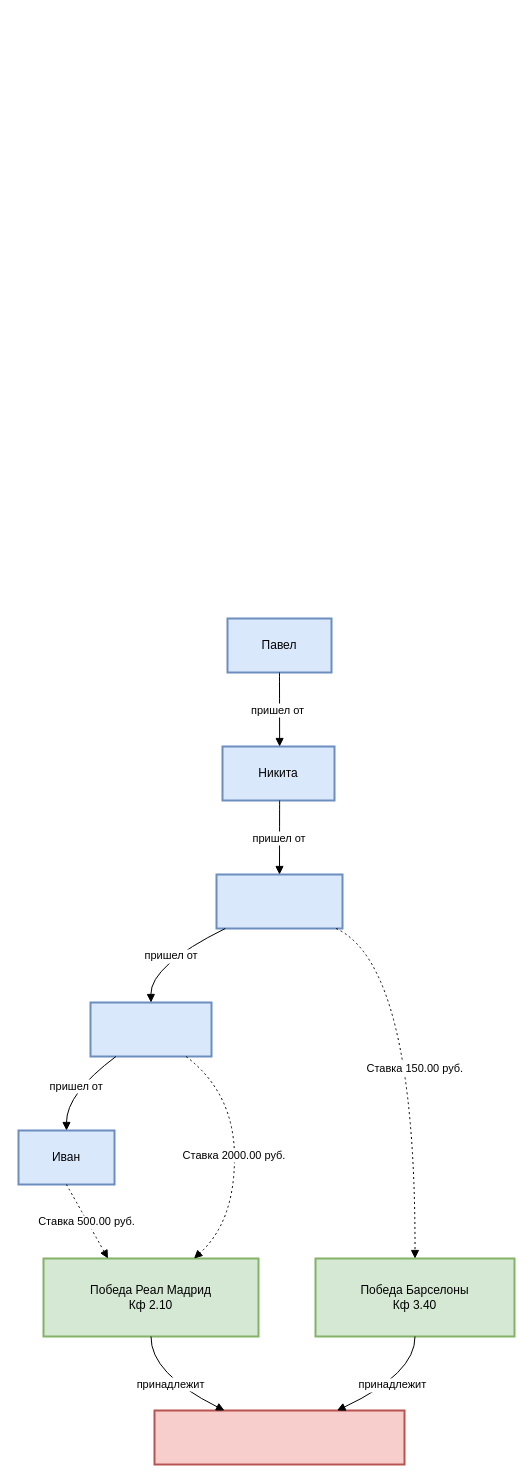
This 532x1482 diagram has some shape labels left out. Each missing label, with the centre of its shape:
Алексей: the point at 150,1029
Дмитрий: the point at 279,901
Реал Мадрид - Барселона: the point at 279,1437
